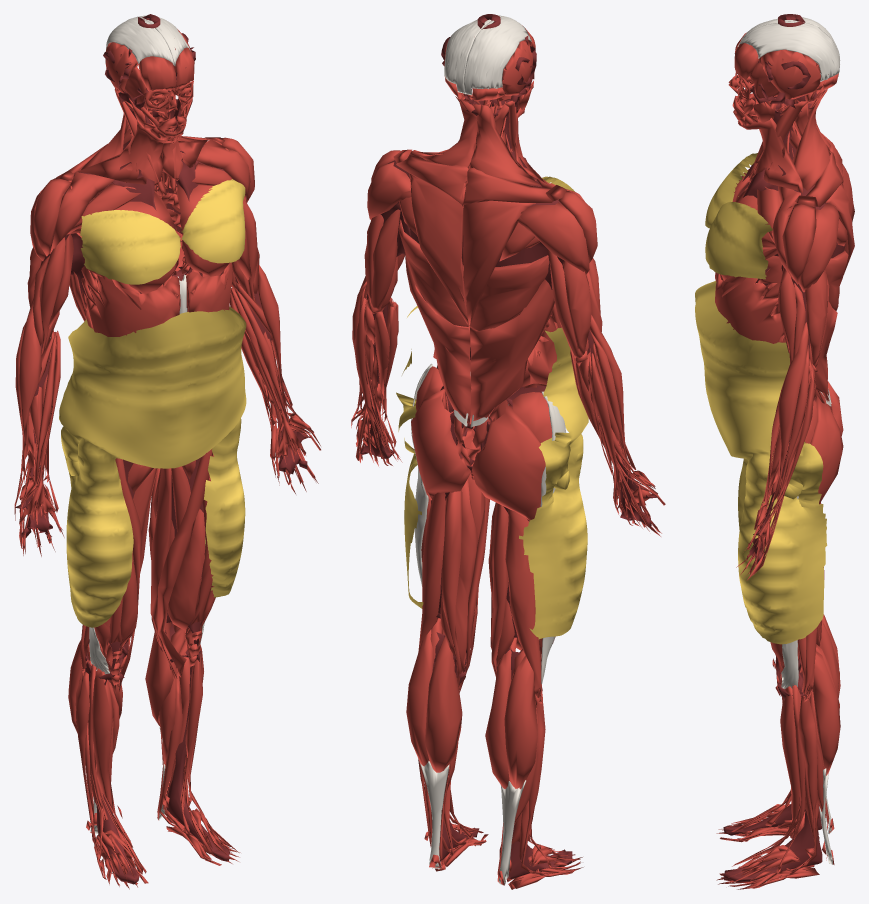
Rendered from anatomy_40k.glb.
3 views of the same model, side by side, from view 1: azimuth 30°, elevation 25°; view 2: azimuth 150°, elevation 25°; view 3: azimuth 270°, elevation 25° (orthographic). The views are drawn at different scales.
Parts seen in each view (by area): view 1: muscle, fat, shell, white; view 2: muscle, fat, white, shell; view 3: muscle, fat, shell, white.
Part boxes in pixels (left/top/right/bottom): muscle: left=14, top=29, right=320, bottom=889; fat: left=59, top=179, right=246, bottom=627; shell: left=15, top=14, right=311, bottom=884; white: left=89, top=15, right=204, bottom=833; muscle: left=351, top=25, right=665, bottom=889; fat: left=396, top=176, right=588, bottom=639; white: left=411, top=15, right=566, bottom=884; shell: left=357, top=14, right=656, bottom=879; muscle: left=715, top=32, right=854, bottom=889; fat: left=695, top=153, right=827, bottom=644; shell: left=723, top=14, right=845, bottom=882; white: left=737, top=17, right=840, bottom=864.
Size of the model in its own units: 0.6589 by 1.71 by 0.2943.
